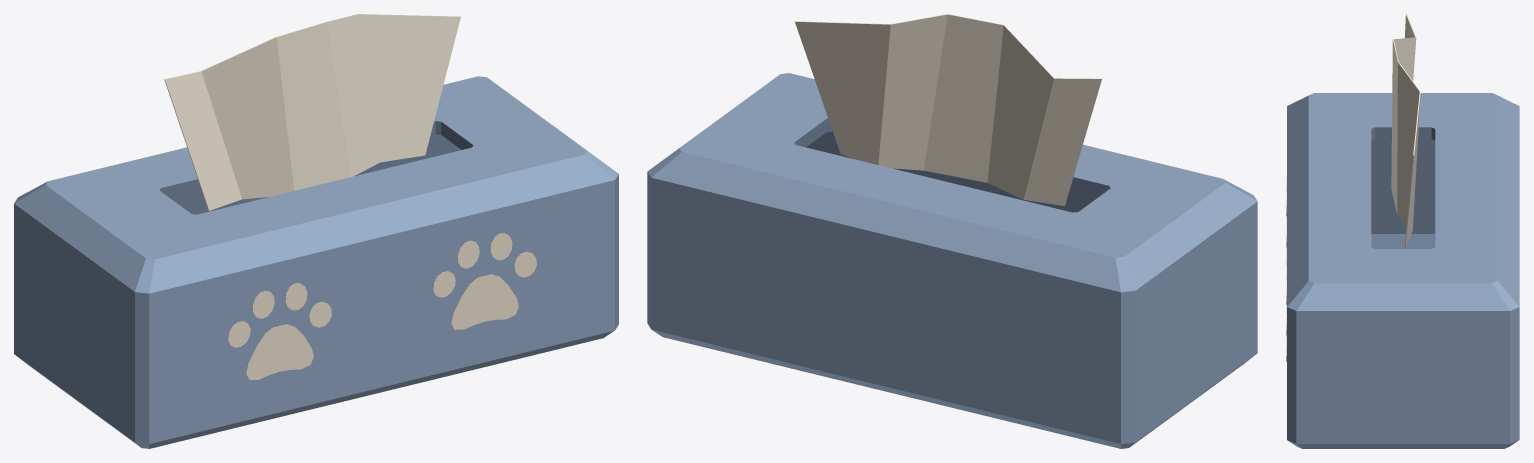
File: tissue-box.glb
The picture shows the model from 3 angles, left to right: view 1: azimuth 30°, elevation 25°; view 2: azimuth 150°, elevation 25°; view 3: azimuth 270°, elevation 25°; orthographic projection. The views are drawn at different scales.
Visible parts, largest first — view 1: 01 纸巾盒 · 切角外壳与抽纸口, 03 抽出的折面纸巾, 02 两枚米白爪印; view 2: 01 纸巾盒 · 切角外壳与抽纸口, 03 抽出的折面纸巾; view 3: 01 纸巾盒 · 切角外壳与抽纸口, 03 抽出的折面纸巾.
Boxes of the visible parts, x1,y1,x2,y2 form: 01 纸巾盒 · 切角外壳与抽纸口: (14, 76, 618, 448); 03 抽出的折面纸巾: (164, 14, 460, 210); 02 两枚米白爪印: (228, 233, 536, 379); 01 纸巾盒 · 切角外壳与抽纸口: (647, 73, 1257, 448); 03 抽出的折面纸巾: (795, 14, 1101, 205); 01 纸巾盒 · 切角外壳与抽纸口: (1287, 93, 1519, 448); 03 抽出的折面纸巾: (1391, 14, 1420, 248).
Size of the model in its own units: 3.4 by 2.2 by 1.6.
